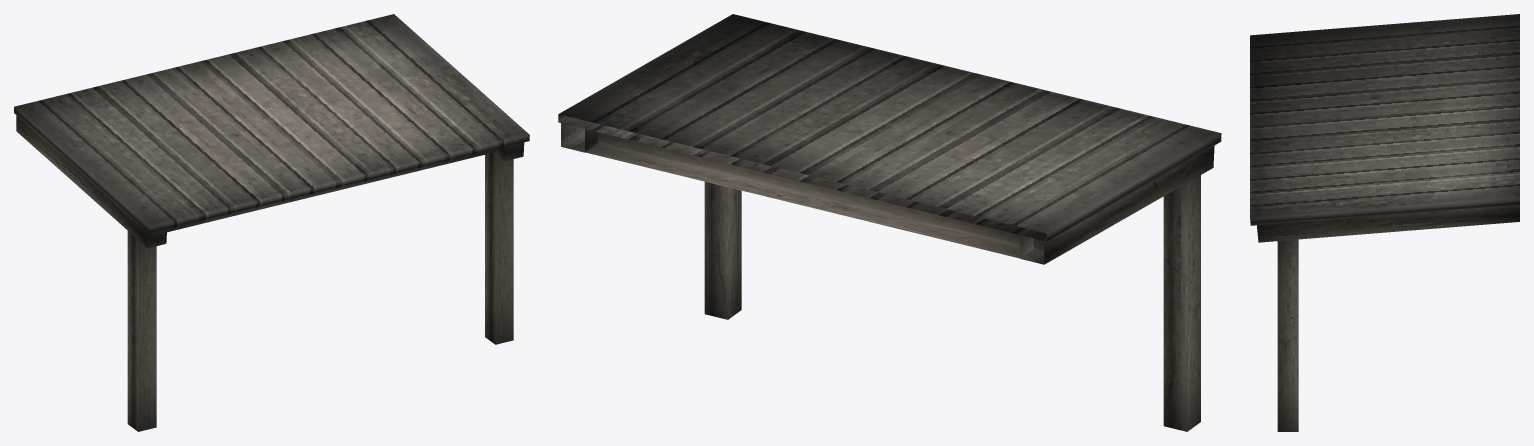
The model's file is oga_stall.glb.
The picture shows the model from 3 angles, left to right: view 1: azimuth 30°, elevation 25°; view 2: azimuth 150°, elevation 25°; view 3: azimuth 270°, elevation 25°; orthographic projection. The views are drawn at different scales.
Visible parts, largest first — view 1: oga_stall; view 2: oga_stall; view 3: oga_stall.
Boxes of the visible parts, x1=… form: oga_stall: x1=14, y1=14, x2=529, y2=431; oga_stall: x1=558, y1=14, x2=1221, y2=431; oga_stall: x1=1250, y1=14, x2=1519, y2=431.
Size of the model in its own units: 3.69 by 2.19 by 2.28.
1 material, 1 textured.
